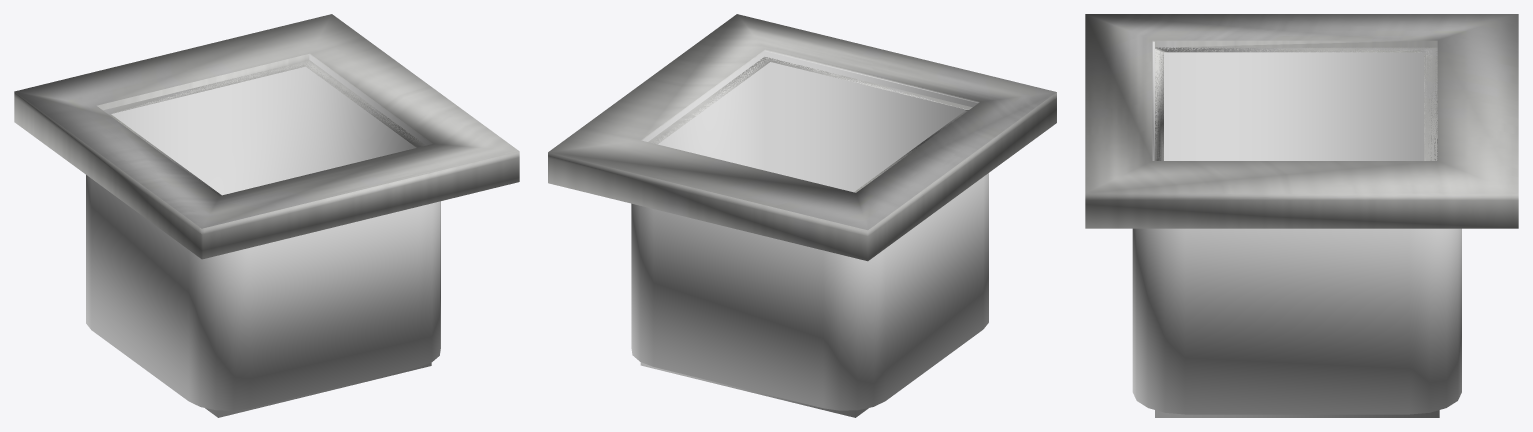
The model's file is bakje.glb.
3 views of the same model, side by side, from view 1: azimuth 30°, elevation 25°; view 2: azimuth 150°, elevation 25°; view 3: azimuth 270°, elevation 25° (orthographic). The views are drawn at different scales.
Parts seen in each view (by area): view 1: Cube, Cube.002; view 2: Cube, Cube.002; view 3: Cube, Cube.002.
Boxes of the visible parts, box(x1,y1,x2,y2) form: Cube: box(86, 54, 440, 417); Cube.002: box(14, 14, 519, 259); Cube: box(631, 50, 988, 417); Cube.002: box(548, 14, 1056, 261); Cube: box(1132, 41, 1461, 417); Cube.002: box(1085, 14, 1518, 228).
Bounding box in the file's own units: 1.77 × 1.19 × 1.81.
Materials: 2 (1 with a texture image).
